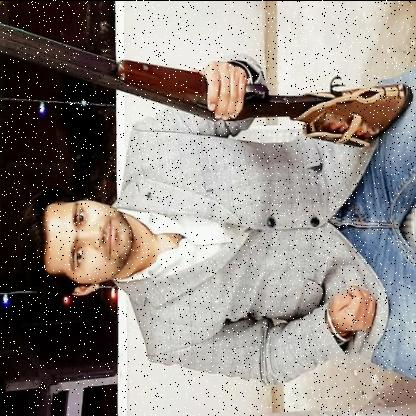rifle: (0, 22, 415, 151)
